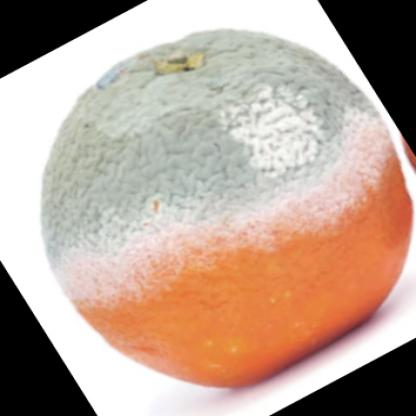rotten_orange: (40, 27, 408, 394)
